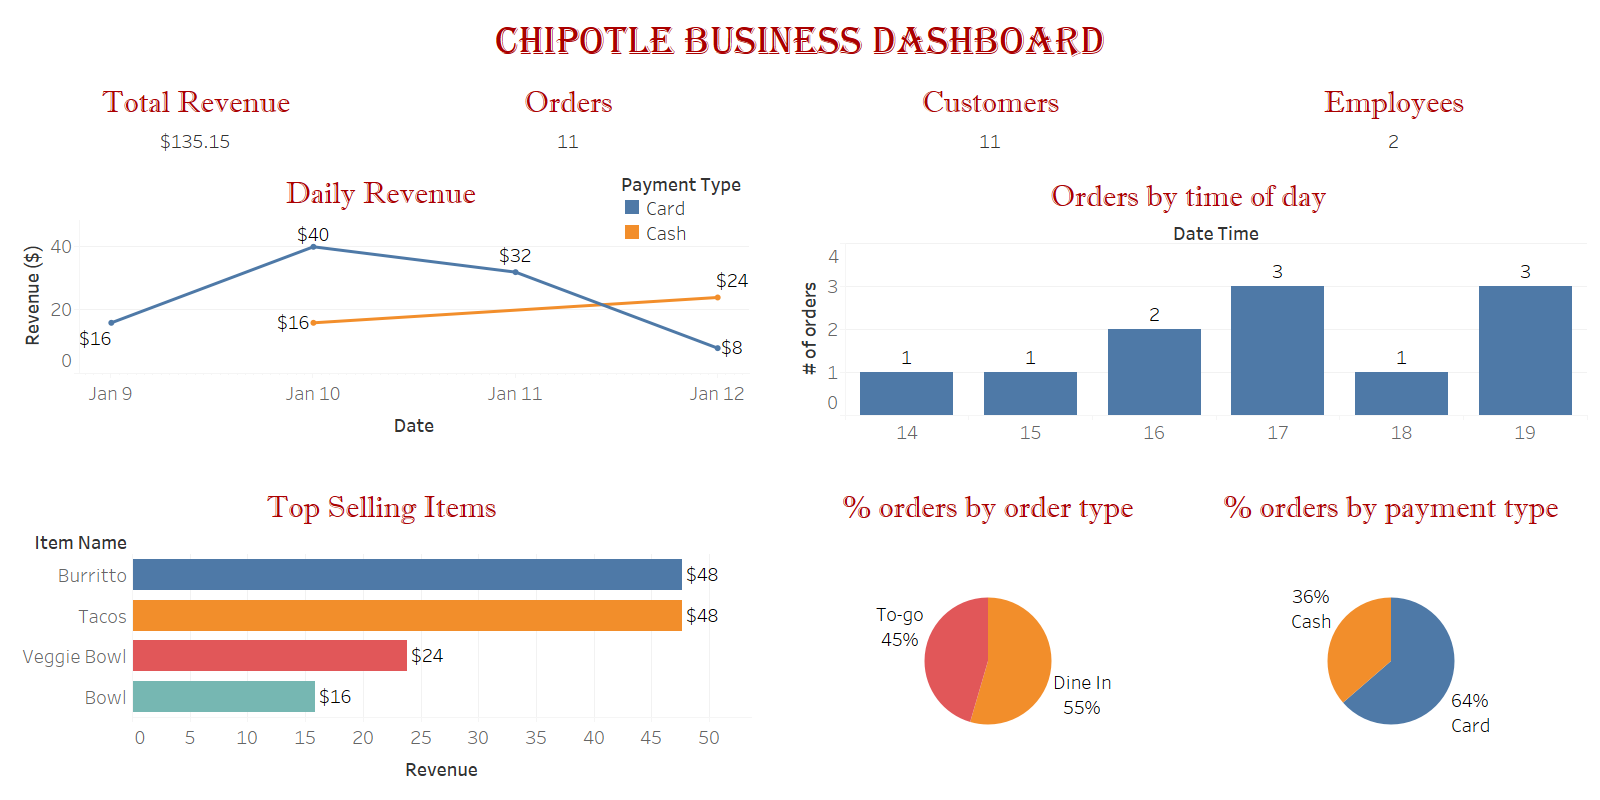

The dashboard page shown, as its layout file describes it:
{"tool":"tableau","page":{"name":"Dashboard 2","canvas":[1600,800],"ordinal":0},"visuals":[{"type":"title","box":[8,8,1584,66]},{"type":"worksheet","title":"Total Revenue","mark":"Automatic","box":[8,74,376,90.6]},{"type":"worksheet","title":"Total Orders","mark":"Automatic","box":[384,74,369,90.6]},{"type":"blank","box":[753,74,32,373.8]},{"type":"worksheet","title":"Cust","mark":"Automatic","box":[785,74,411,93.5]},{"type":"worksheet","title":"Emp","mark":"Automatic","box":[1196,74,396,93.5]},{"type":"worksheet","title":"Daily Revenue","mark":"Automatic","rows":["Calculation_2561140832460926976"],"cols":["date_time"],"box":[8,164.6,745,283.2]},{"type":"worksheet","title":"Orders by time of the day","mark":"Bar","rows":["order_id (order_line)"],"cols":["date_time"],"box":[785,167.5,807,280.3]},{"type":"legend","title":"Daily Revenue","param":"[federated.12do3a61g4g3e71fqtfud1kolr0k].[none:payment_type:nk]","box":[620,169,128,76]},{"type":"blank","box":[8,447.8,1584,31.6]},{"type":"worksheet","title":"Top selling items","mark":"Automatic","rows":["item_name"],"cols":["Calculation_2561140832460926976"],"box":[8,479.5,747,312.5]},{"type":"blank","box":[755,479.5,32,312.5]},{"type":"worksheet","title":"Order Type","mark":"Pie","box":[787,479.5,402.5,312.5]},{"type":"worksheet","title":"Payment Type","mark":"Pie","box":[1189.5,479.5,402.5,312.5]}]}

Visuals, with their boxes in screenshot pixels (x1, y1, x2, y2), scaled from the page's 1600x800 canvas onto the 1600x800 screenshot:
title: locate(8, 8, 1592, 74)
"Total Revenue" worksheet: locate(8, 74, 384, 165)
"Total Orders" worksheet: locate(384, 74, 753, 165)
blank: locate(753, 74, 785, 448)
"Cust" worksheet: locate(785, 74, 1196, 168)
"Emp" worksheet: locate(1196, 74, 1592, 168)
"Daily Revenue" worksheet: locate(8, 165, 753, 448)
"Orders by time of the day" worksheet (Bar marks): locate(785, 168, 1592, 448)
"Daily Revenue" legend: locate(620, 169, 748, 245)
blank: locate(8, 448, 1592, 479)
"Top selling items" worksheet: locate(8, 480, 755, 792)
blank: locate(755, 480, 787, 792)
"Order Type" worksheet (Pie marks): locate(787, 480, 1190, 792)
"Payment Type" worksheet (Pie marks): locate(1190, 480, 1592, 792)
